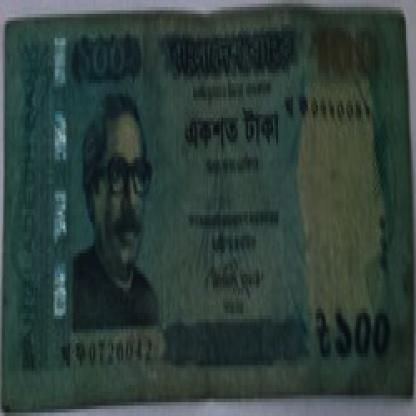one hundred taka: (311, 24, 383, 87), (330, 302, 396, 364), (73, 35, 138, 86)
